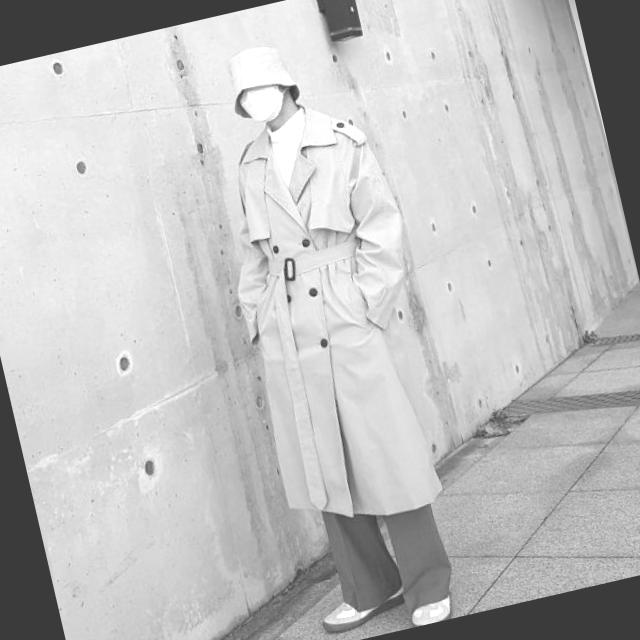coat: (198, 84, 467, 536)
slacks: (321, 486, 461, 626)
